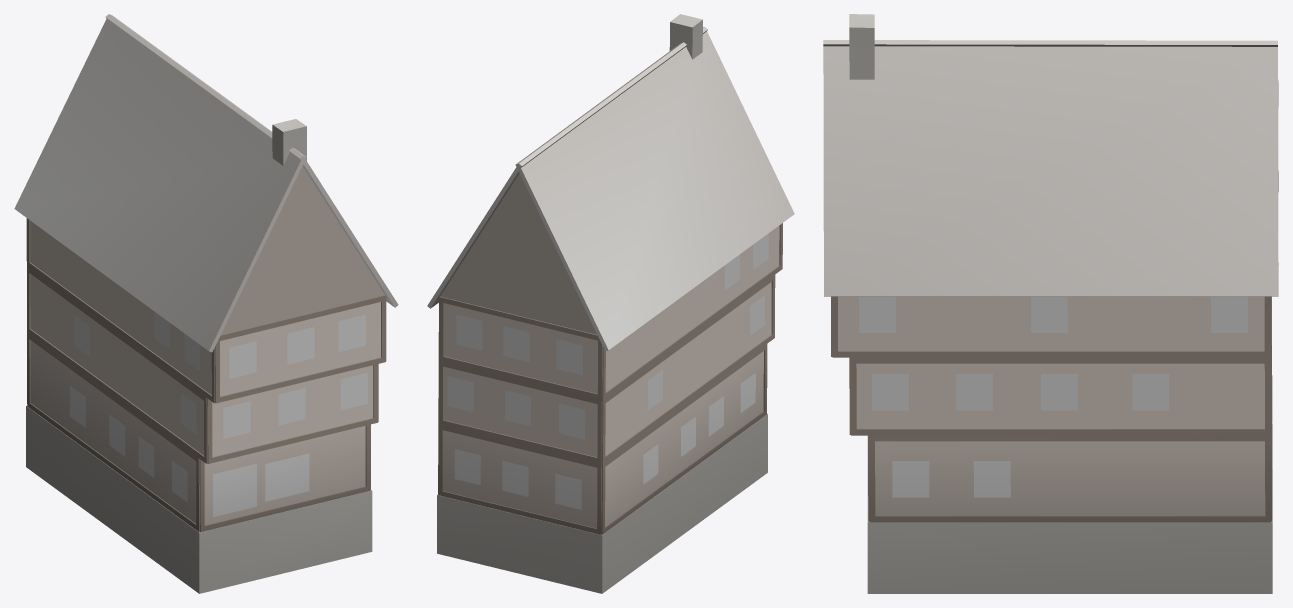
Rendered from townhouse_4.glb.
3 views of the same model, side by side, from view 1: azimuth 30°, elevation 25°; view 2: azimuth 150°, elevation 25°; view 3: azimuth 270°, elevation 25° (orthographic). The views are drawn at different scales.
Visible parts, largest first — view 1: townhouse_4; view 2: townhouse_4; view 3: townhouse_4.
Part boxes in pixels (x1,y1,x2,y2): townhouse_4: (14, 14, 398, 593); townhouse_4: (427, 14, 794, 593); townhouse_4: (823, 14, 1278, 593).
Bounding box in the file's own units: 7.62 × 17.24 × 13.55.
